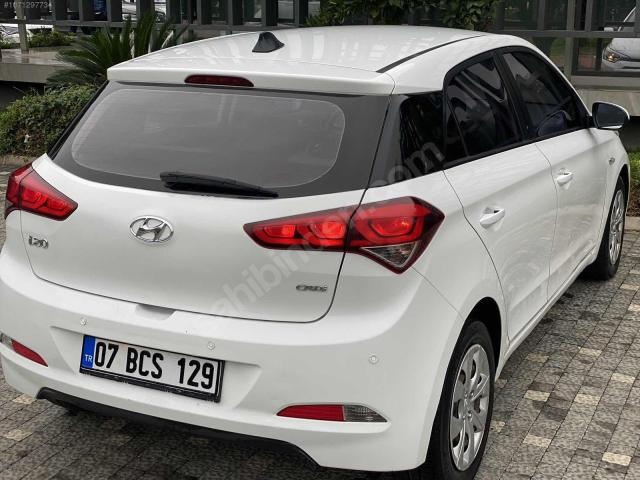plaka: (80, 335, 224, 400)
